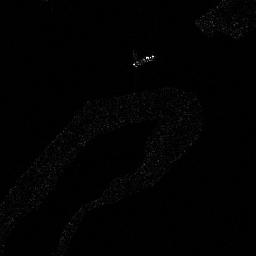ship: (131, 52, 158, 68)
